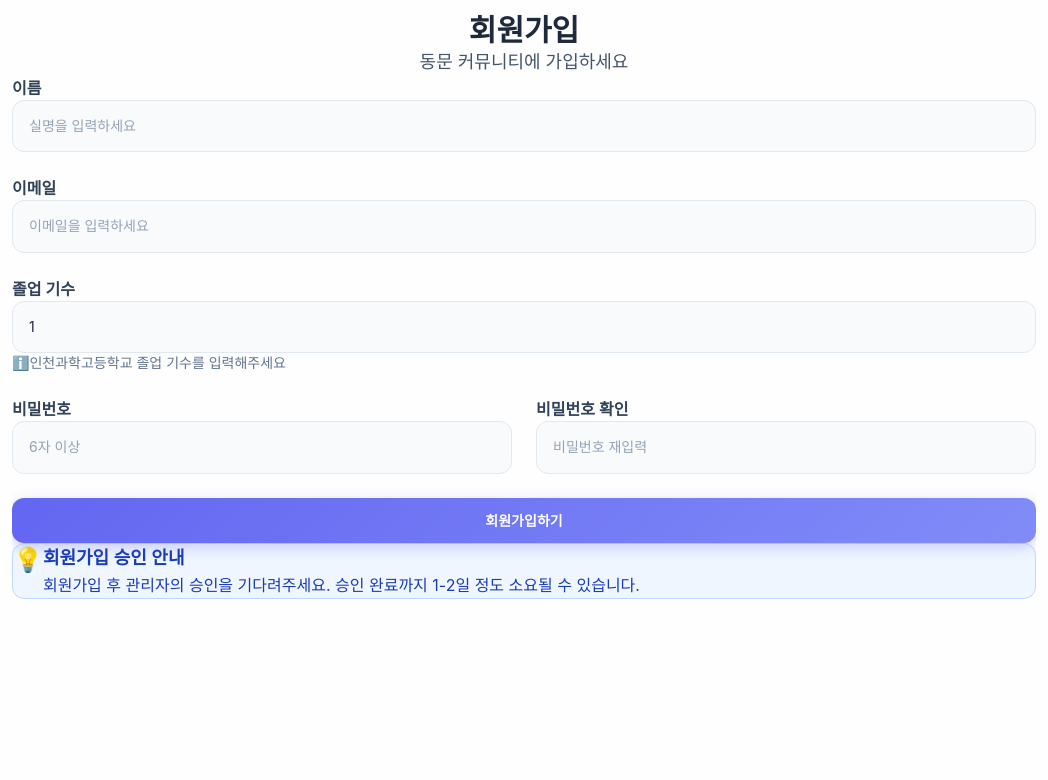
Test: RegisterForm › should show error when graduation class is out of range
In the field labelled "이름": x=524, y=126 [12,100,1036,152], type "홍길동"
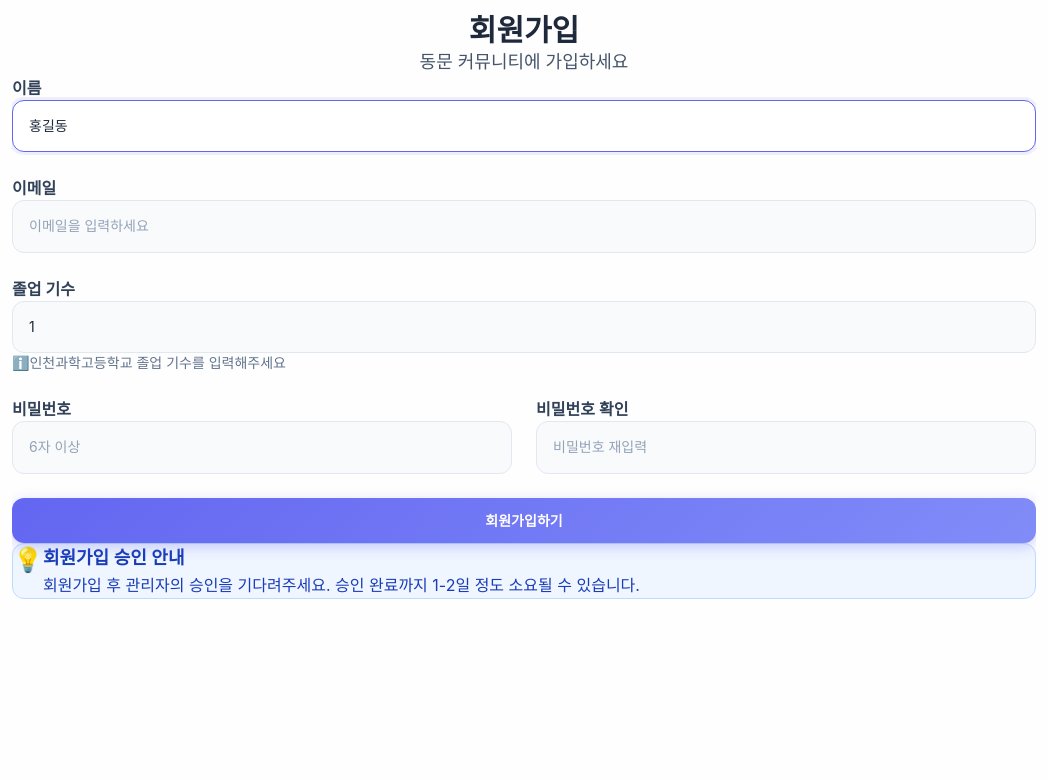
In the field labelled "이메일": x=524, y=227 [12,200,1036,253], type "test@example.com"
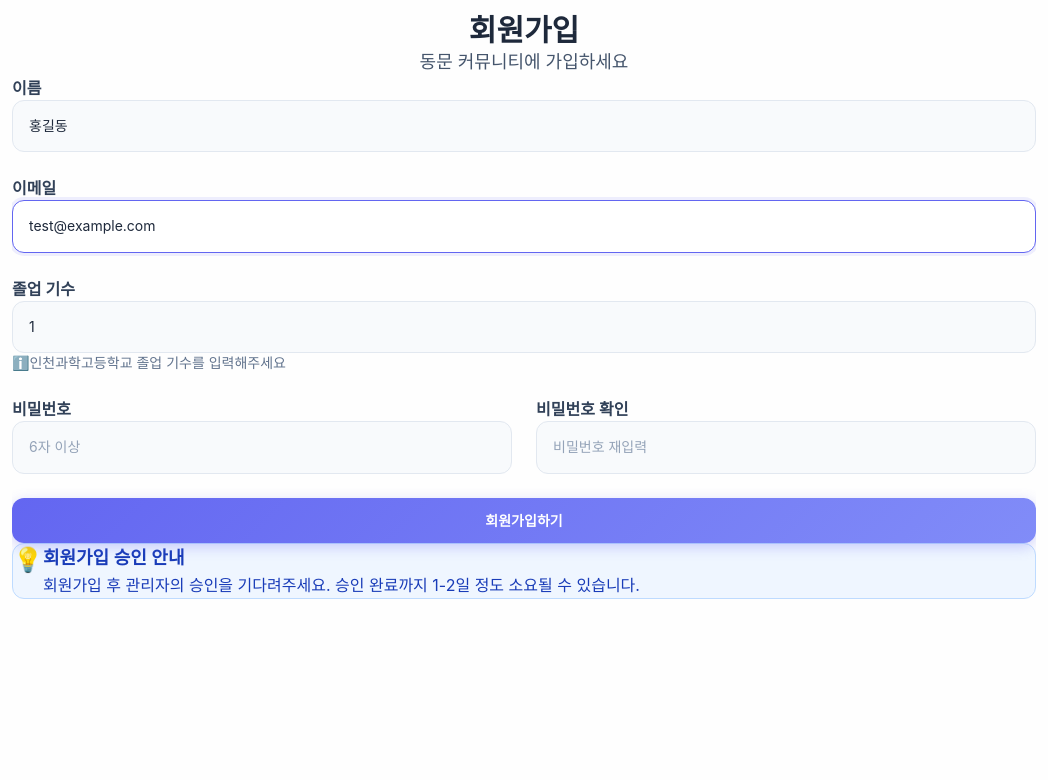
Replace the text in the number field labelled "졸업 기수" with "100": x=524, y=327 [12,301,1036,353]
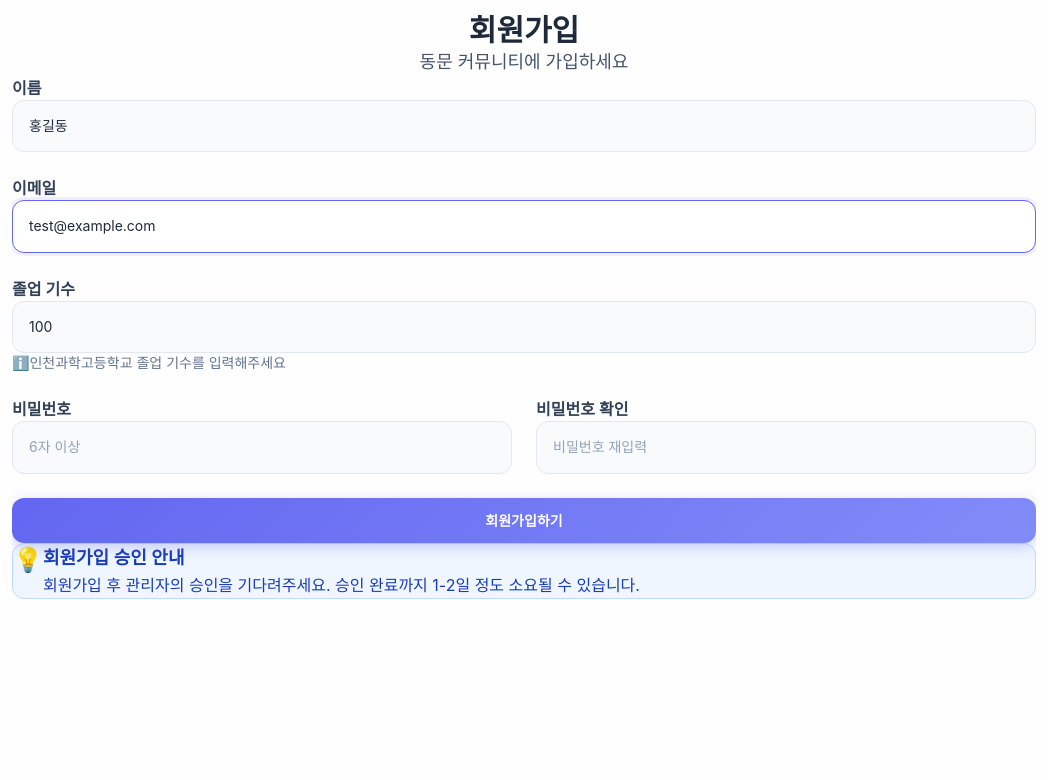
In the password field labelled "비밀번호": x=262, y=447 [12,421,512,474], type "password123"
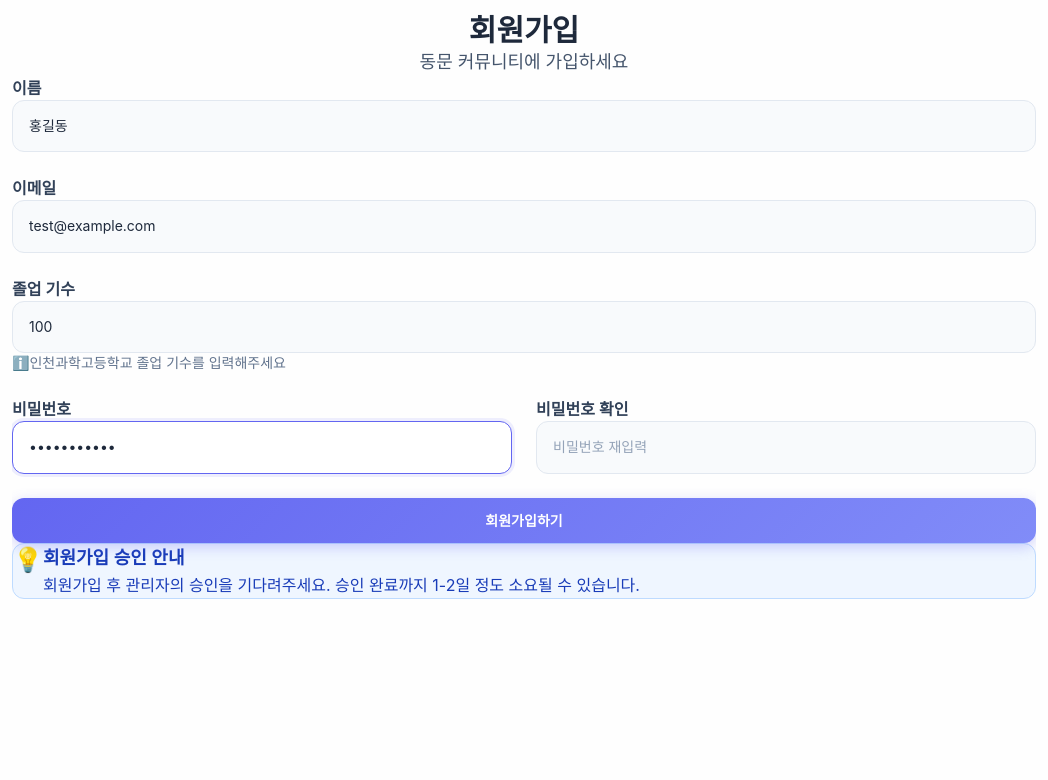
In the password field labelled "비밀번호 확인": x=786, y=447 [536,421,1036,474], type "password123"
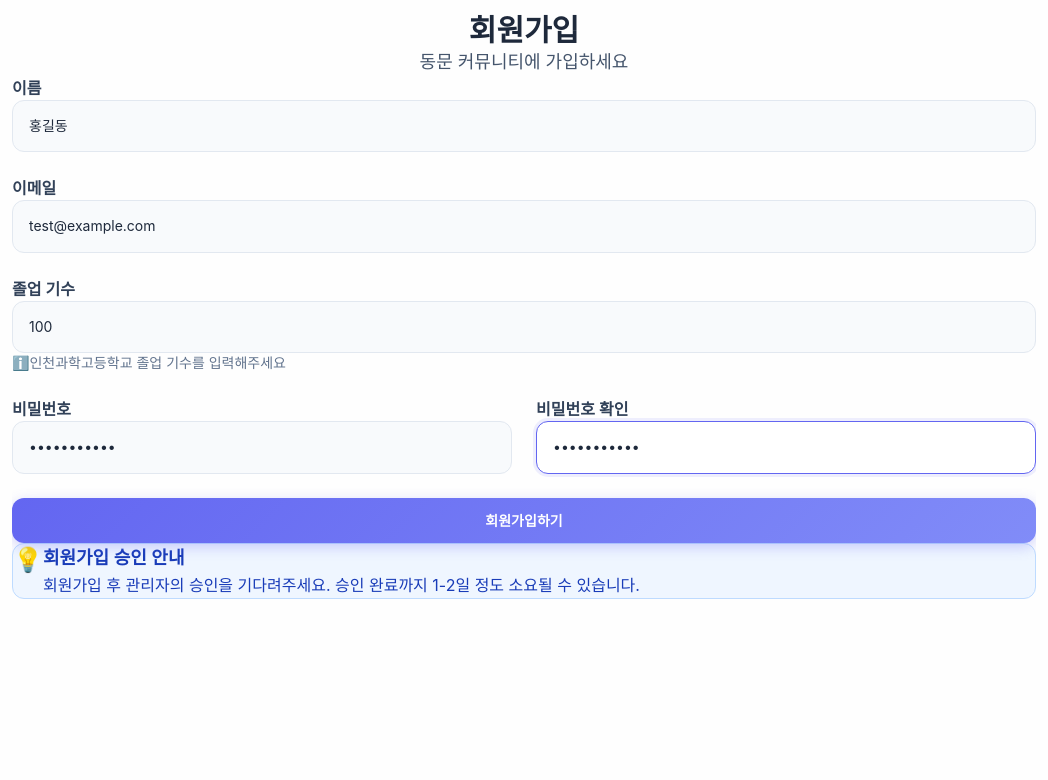
Click the button "회원가입하기": x=524, y=520 [12,498,1036,543]
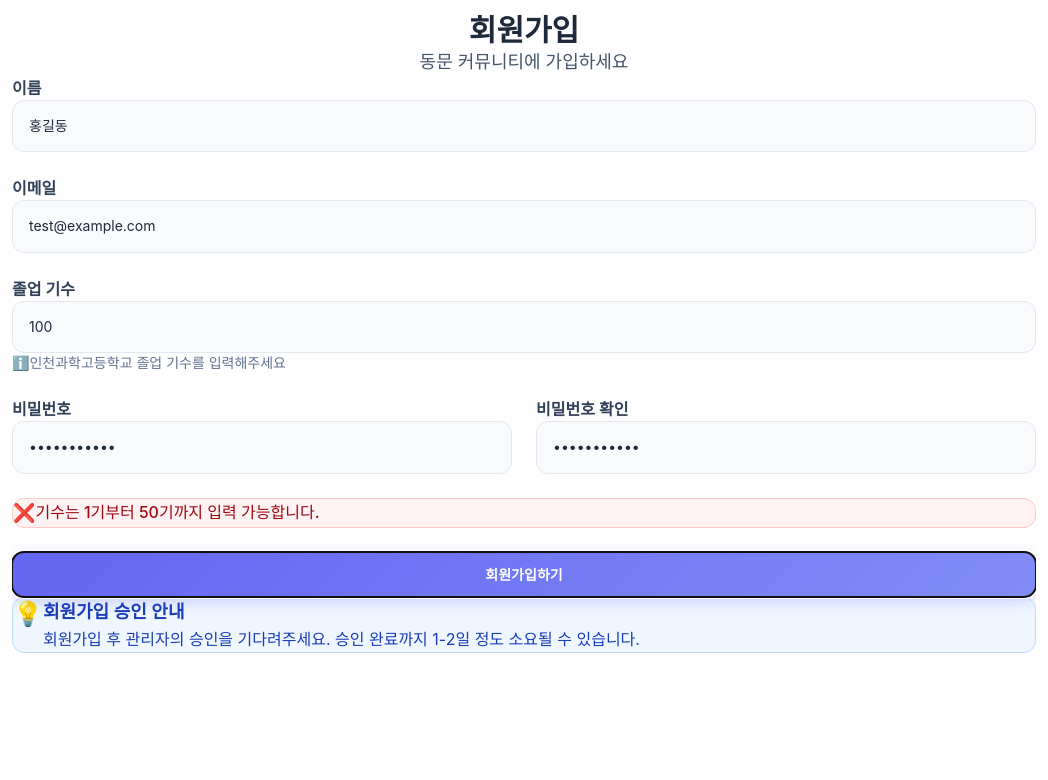
Expected: the text "기수는 1기부터 50기까지 입력 가능합니다." is shown, [36,502,320,522]
